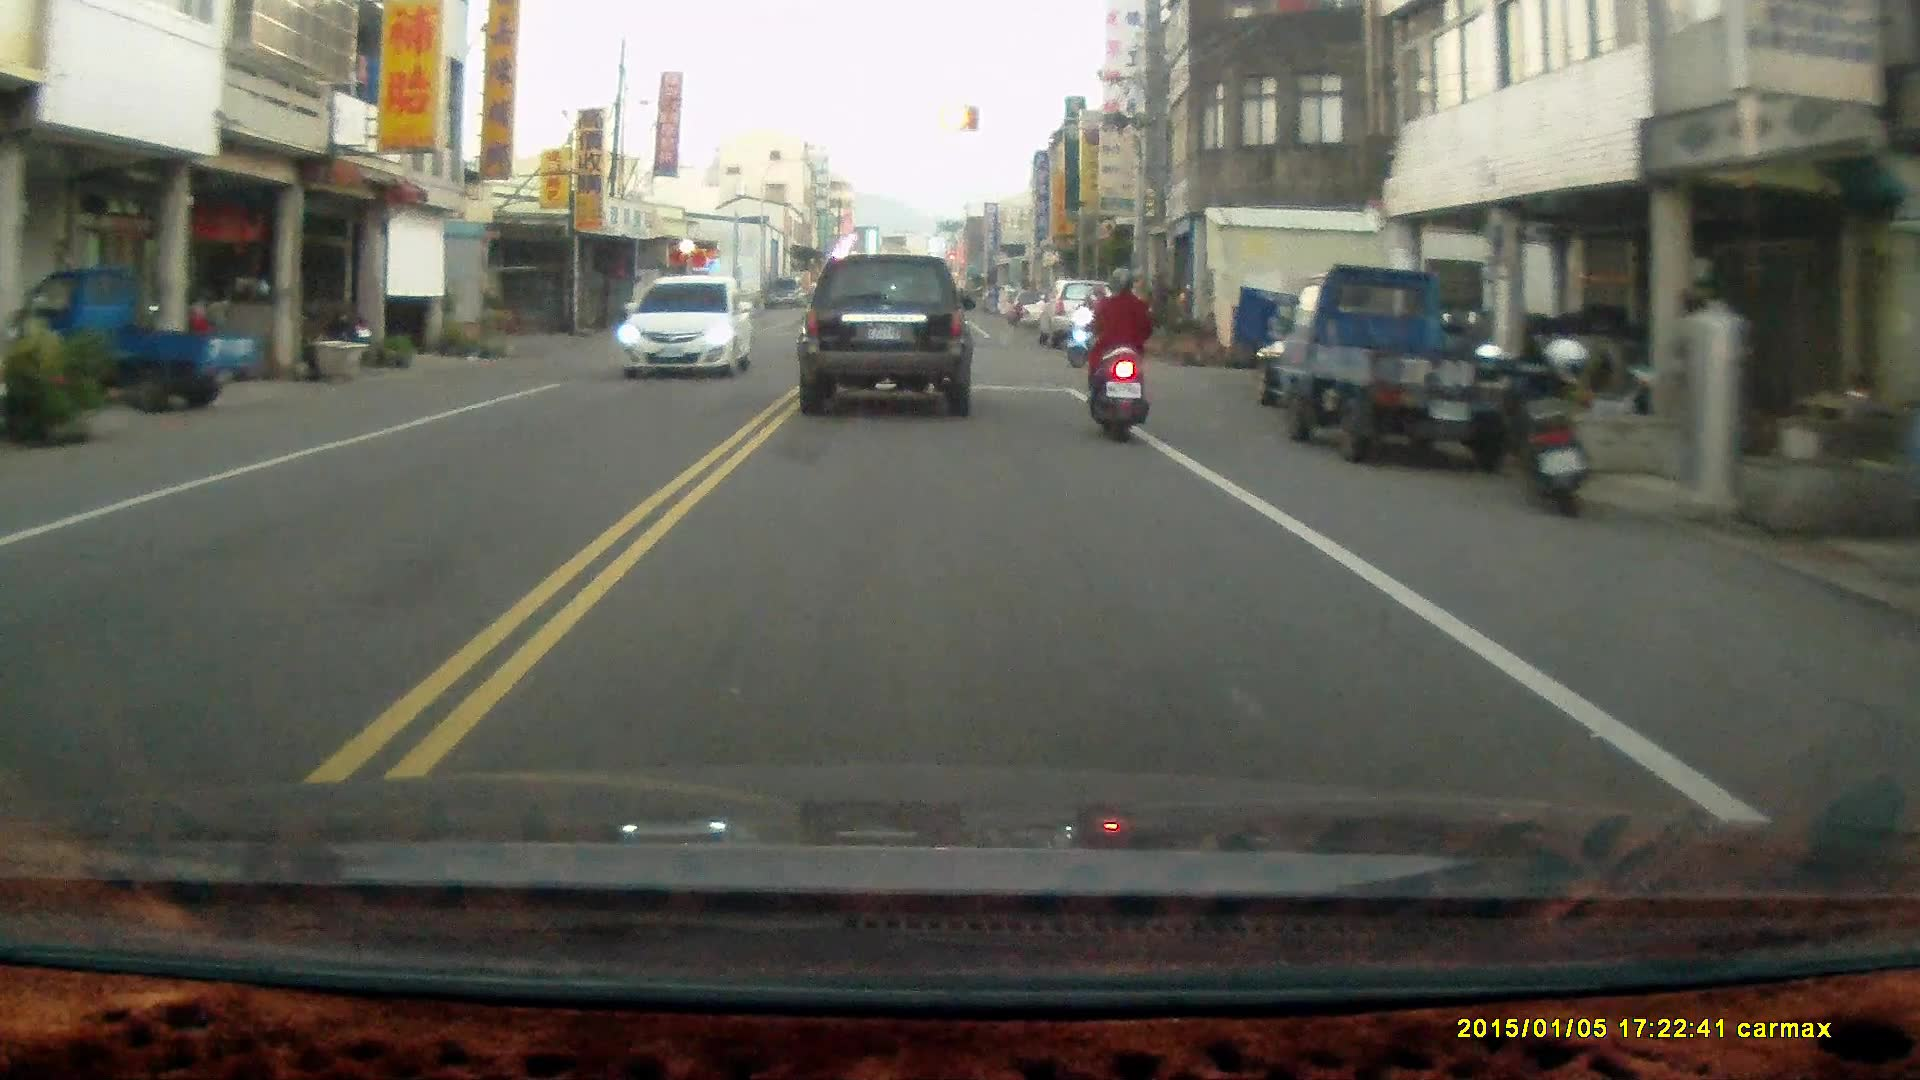rider: (1085, 267, 1151, 448), (1066, 286, 1121, 368)
vehicle: (1279, 262, 1541, 470), (8, 267, 250, 414), (795, 253, 976, 421), (614, 276, 756, 382), (1038, 280, 1121, 350)
